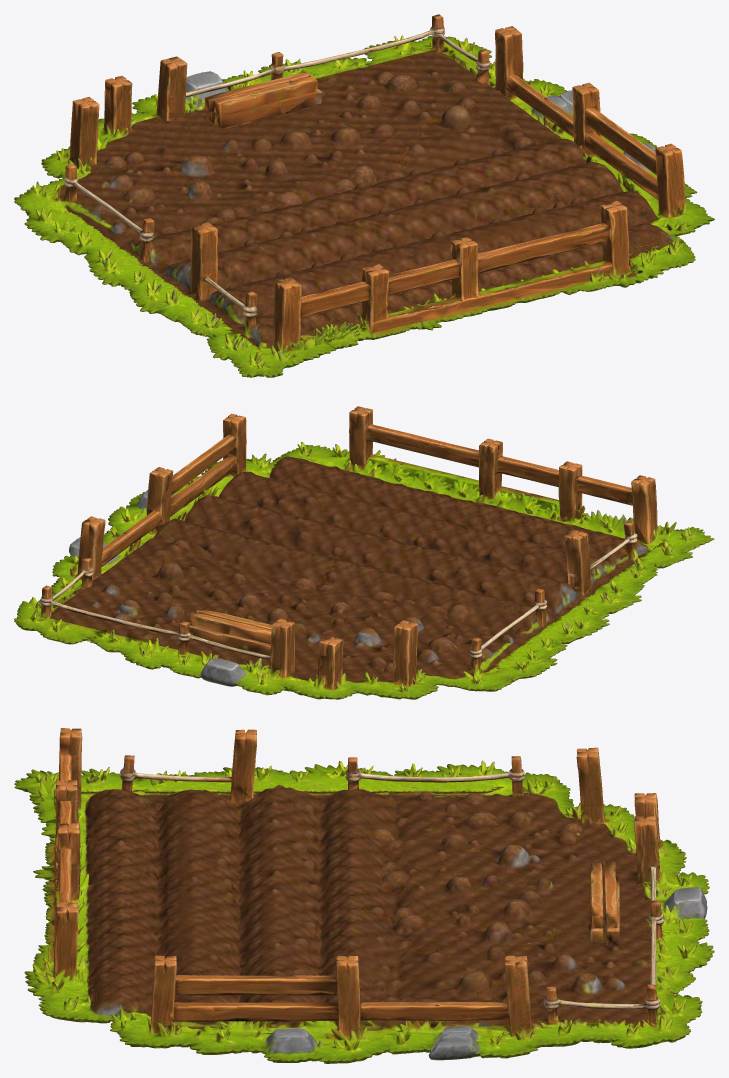
The model's file is granja_e1.glb.
The picture shows the model from 3 angles, top to bottom: view 1: azimuth 30°, elevation 25°; view 2: azimuth 150°, elevation 25°; view 3: azimuth 270°, elevation 25°; orthographic projection. The views are drawn at different scales.
Parts seen in each view (by area): view 1: Mesh_0.001; view 2: Mesh_0.001; view 3: Mesh_0.001.
Boxes of the visible parts, x1,y1,x2,y2 form: Mesh_0.001: [14, 14, 714, 377]; Mesh_0.001: [14, 406, 714, 699]; Mesh_0.001: [14, 728, 714, 1063].
Size of the model in its own units: 0.4976 by 0.0597 by 0.4957.
1 material, 1 textured.
